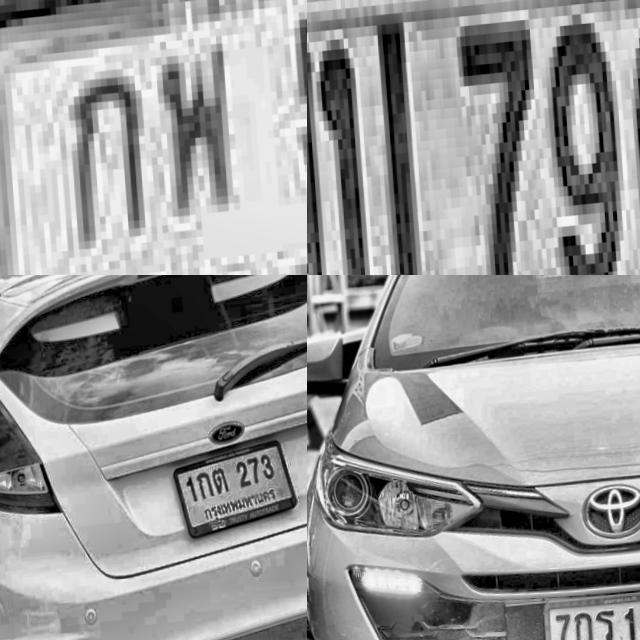license-plate: (307, 0, 640, 275), (0, 0, 307, 275), (166, 440, 303, 550), (539, 590, 640, 640)
